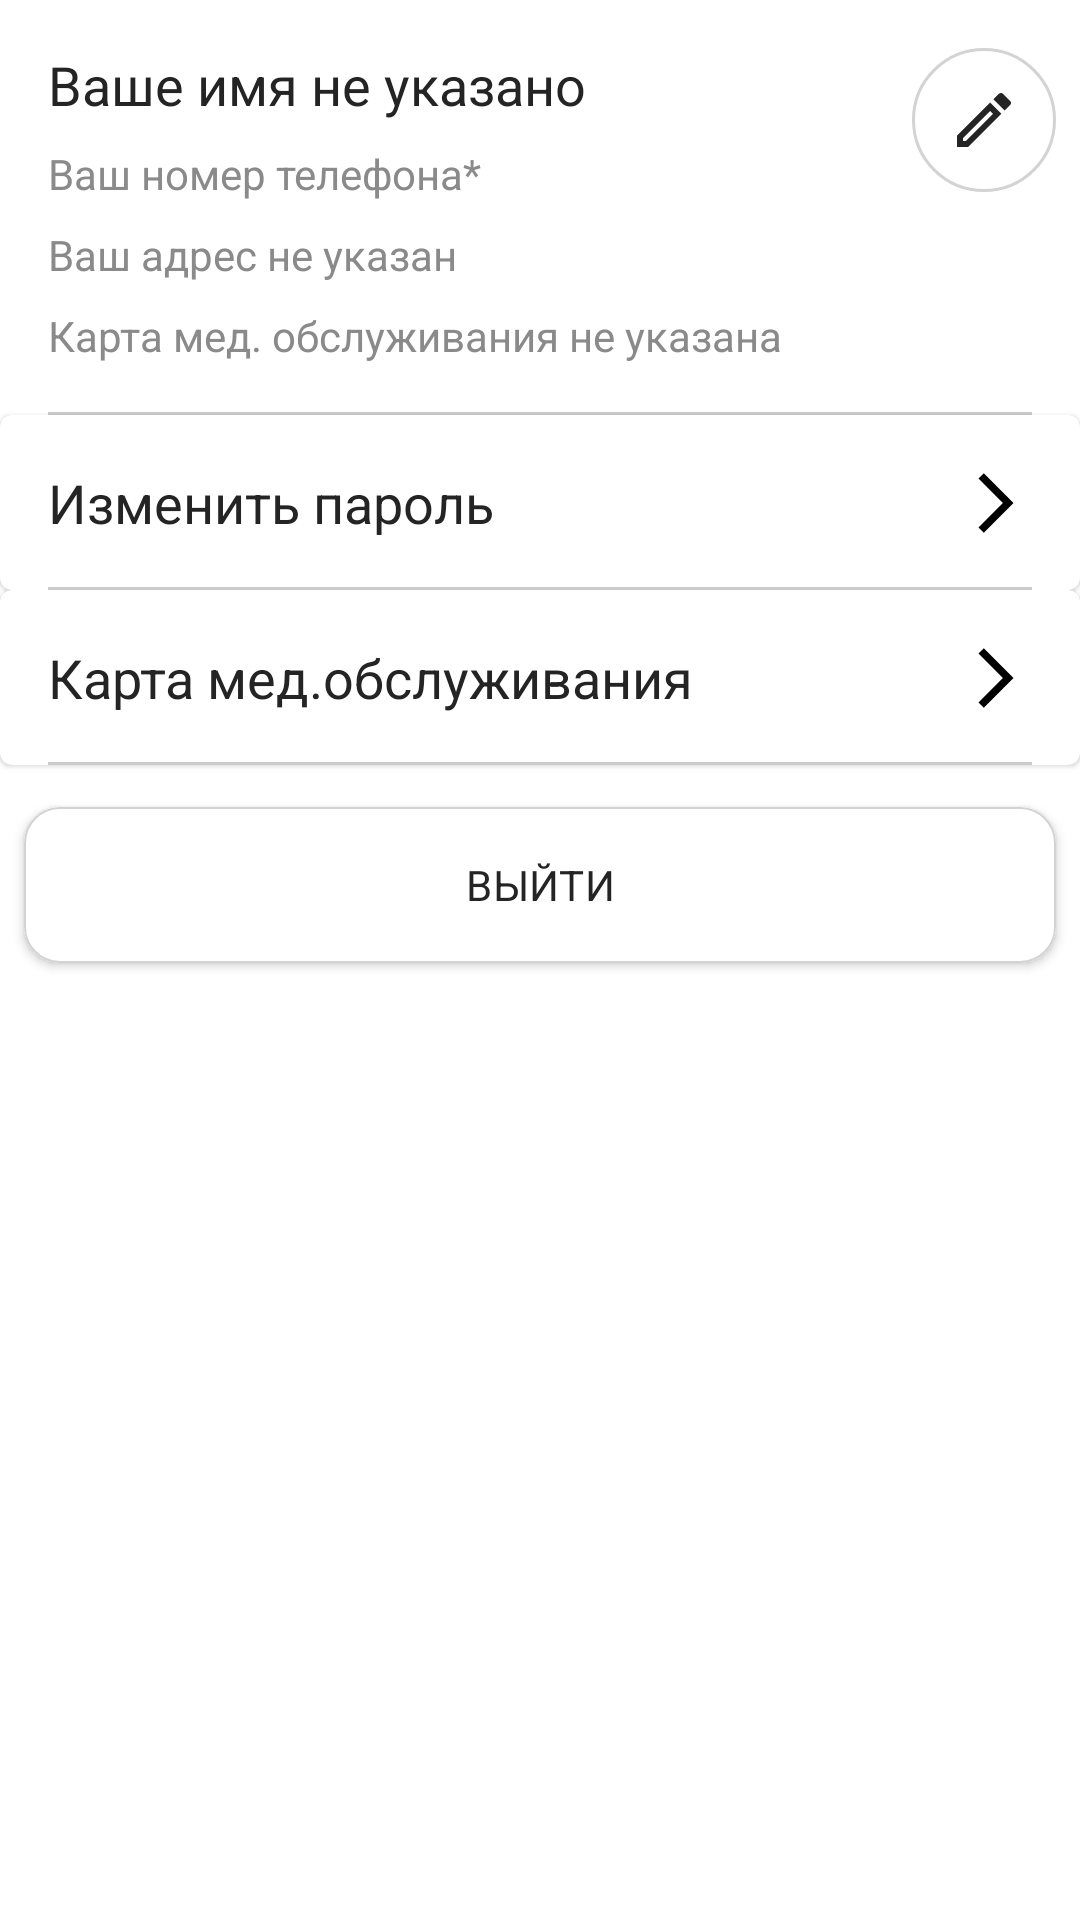

Icons on this 1080×1920 Android screen, each with the point to tap as point (x, y):
edit pen: point (984, 120)
forward arrow: point (996, 503), point (996, 678)
